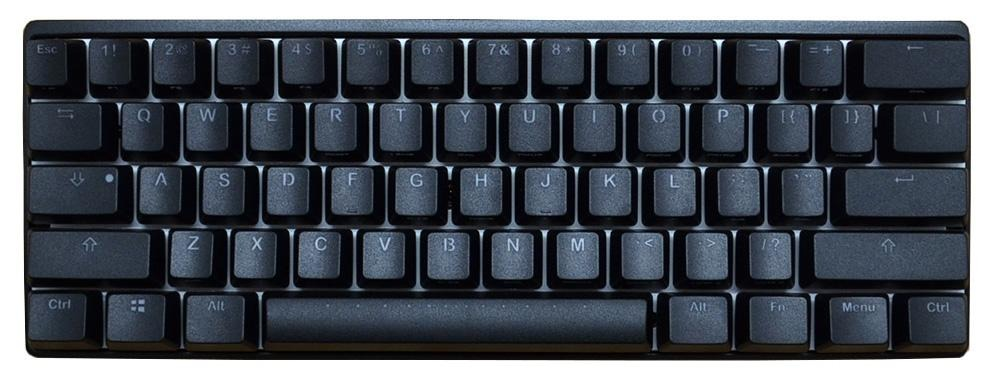keyboard: (14, 16, 982, 366)
